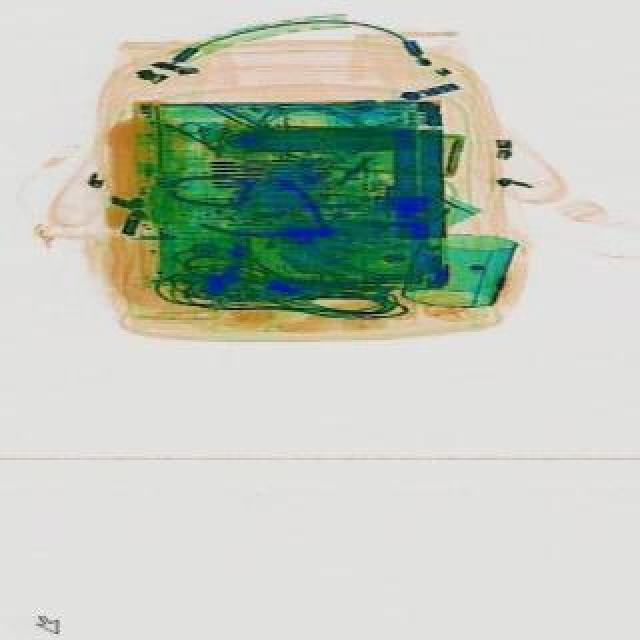wrench: (206, 162, 362, 278)
